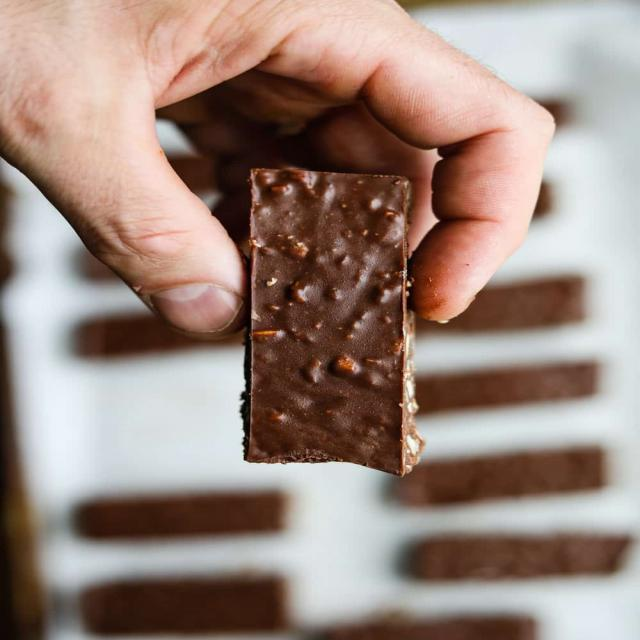Chocolate bar packaged: (239, 165, 417, 477)
